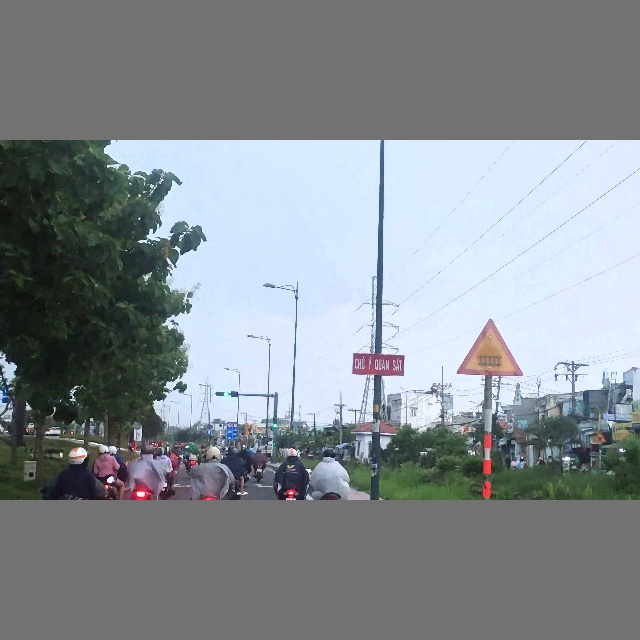I.407a: (206, 429, 212, 435)
W.210: (456, 317, 524, 377)
